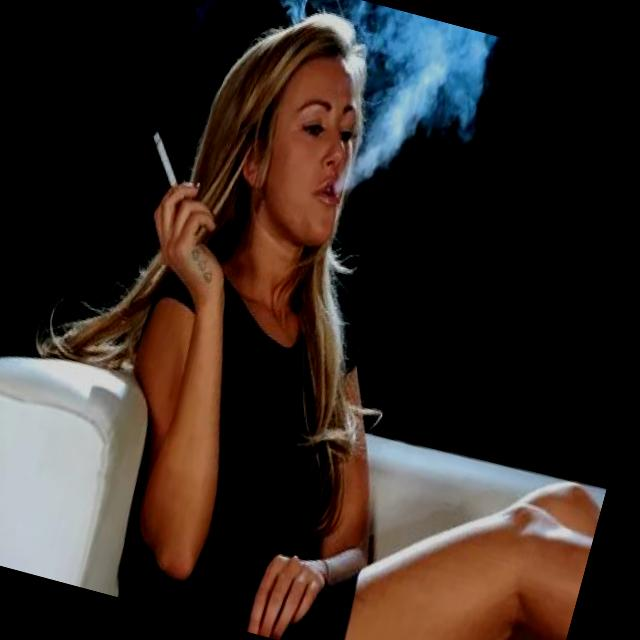cigarette: (138, 123, 196, 196)
